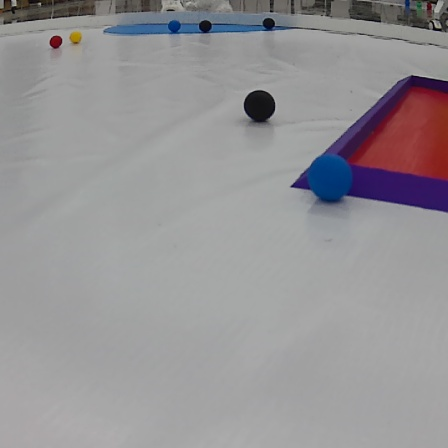black: (244, 87, 279, 124), (261, 17, 278, 30), (199, 19, 211, 32)
blue: (306, 153, 352, 203), (168, 18, 183, 34)
blue_base: (100, 22, 302, 37)
red: (49, 34, 63, 47)
red_aim: (290, 68, 448, 216)
